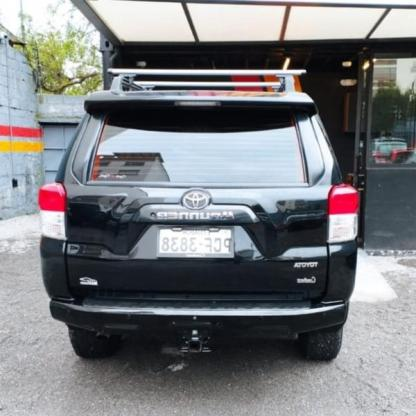Placa: (154, 222, 237, 261)
